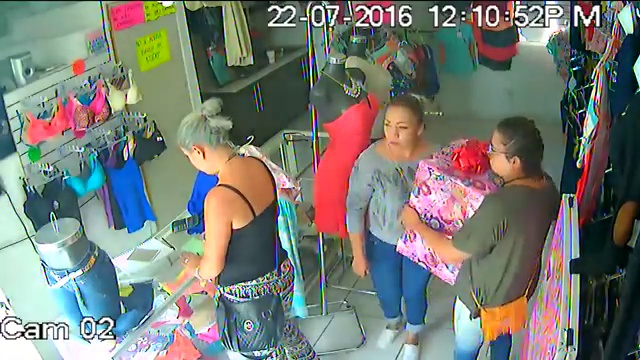face: (483, 131, 520, 181), (380, 106, 416, 150)
